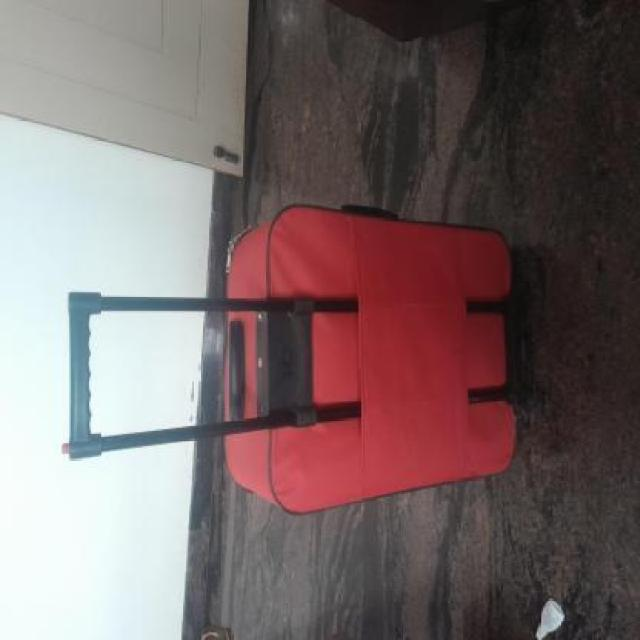backpack: (61, 197, 528, 521)
